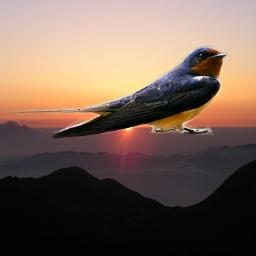Swallow: (7, 44, 228, 139)
